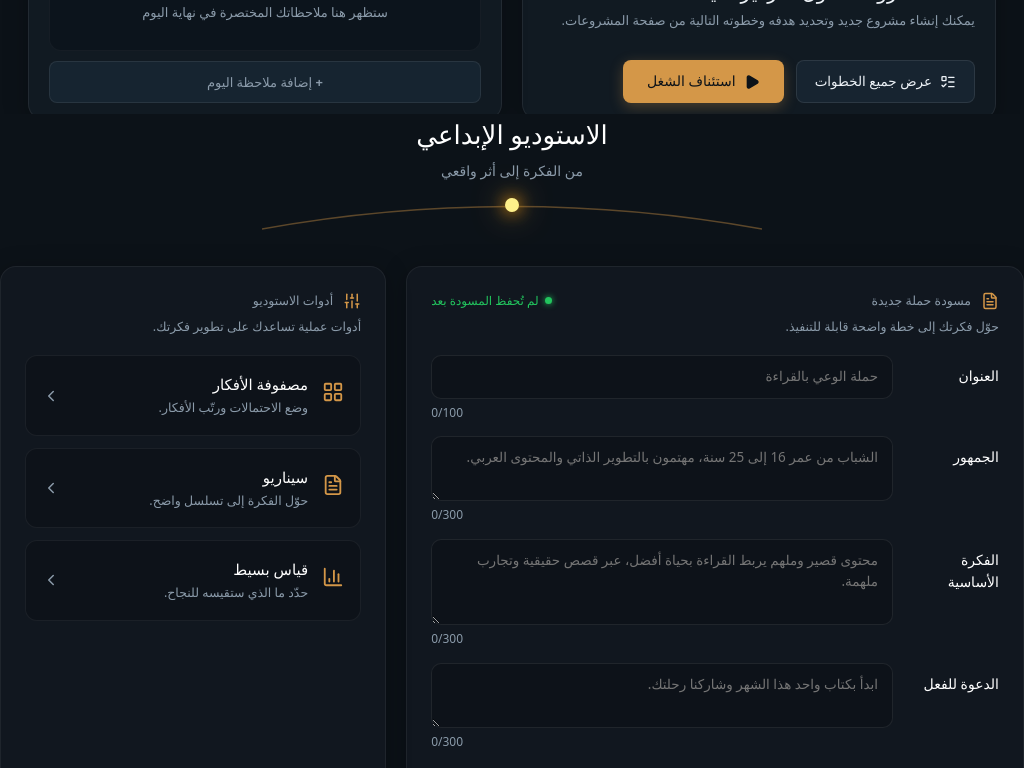
Test case: Audit Fixes Verification Suite › 1. Studio View Interactivity & Worksheets › opens Creative Matrix 2x2 grid, allows quadrant editing, and saves draft locally
Click the text "مصفوفة الأفكار".
click(260, 384)  # box [213,374,308,394]
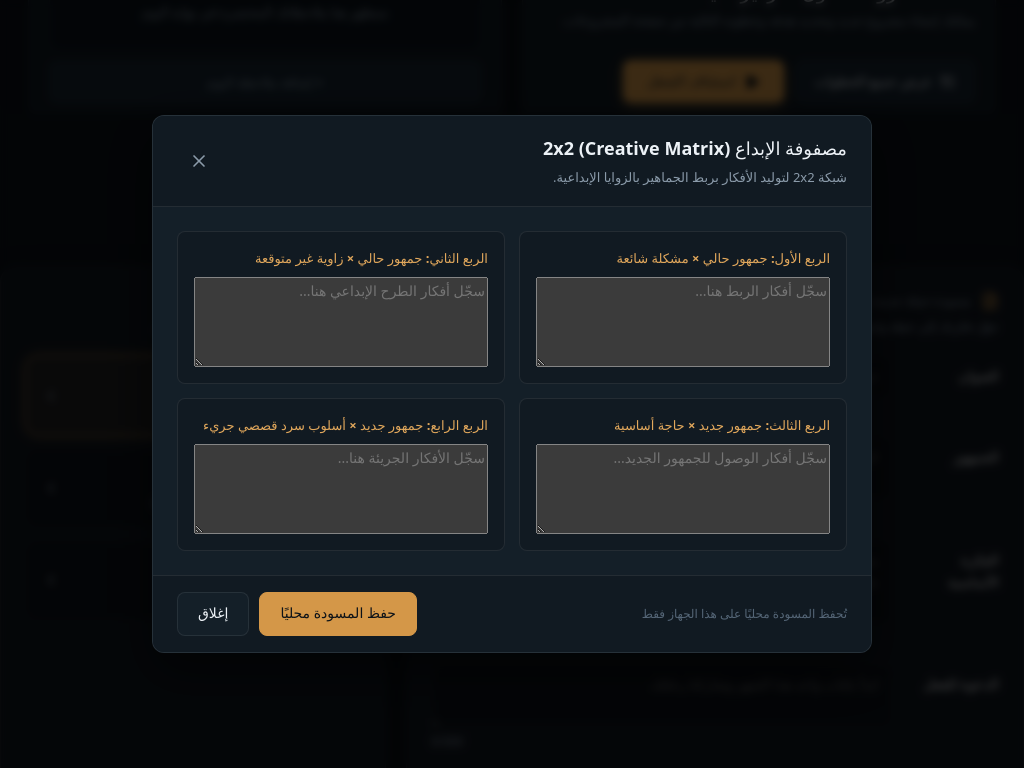
Expected: the heading "مصفوفة الإبداع 2x2 (Creative Matrix)" is shown, [543,134,847,163]
Expected: the heading "الربع الأول: جمهور حالي × مشكلة شائعة" is shown, [616,249,830,267]
Expected: the heading "الربع الرابع: جمهور جديد × أسلوب سرد قصصي جريء" is shown, [194,415,488,436]
Type "طرح زاوية جديدة للمهنيين" into the text box with placeholder "سجّل أفكار الربط هنا...".
click(683, 322); type("طرح زاوية جديدة للمهنيين")  # box [536,277,830,367]
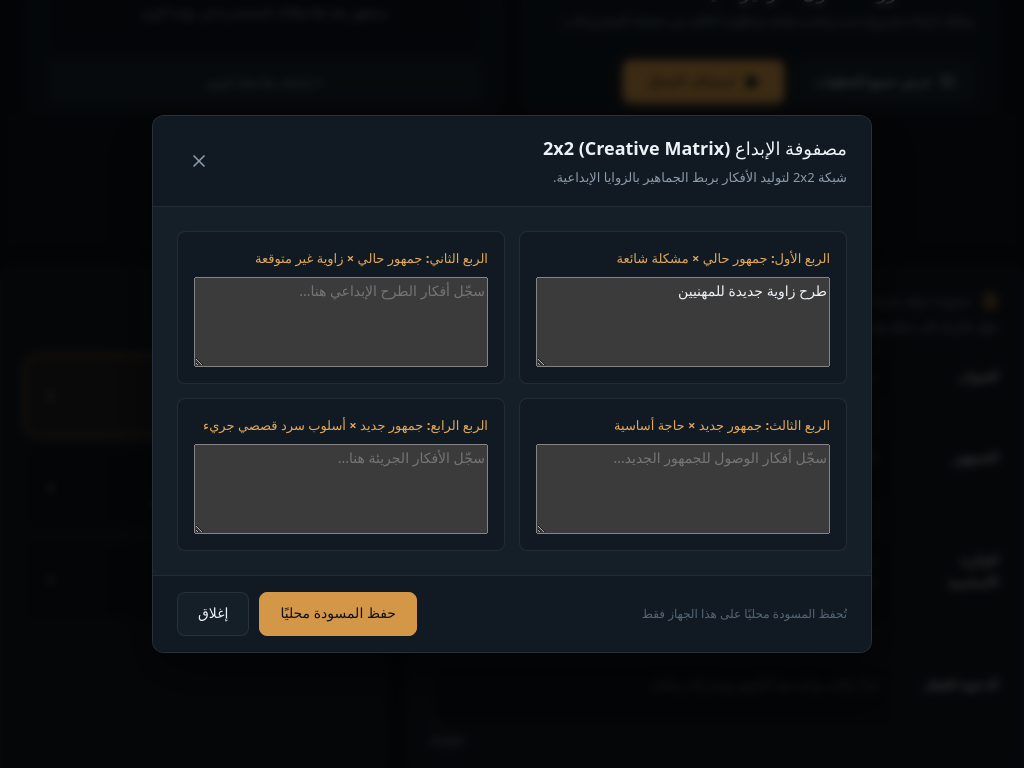
Click the button "حفظ المسودة محليًا".
click(338, 614)  # box [259,592,417,636]
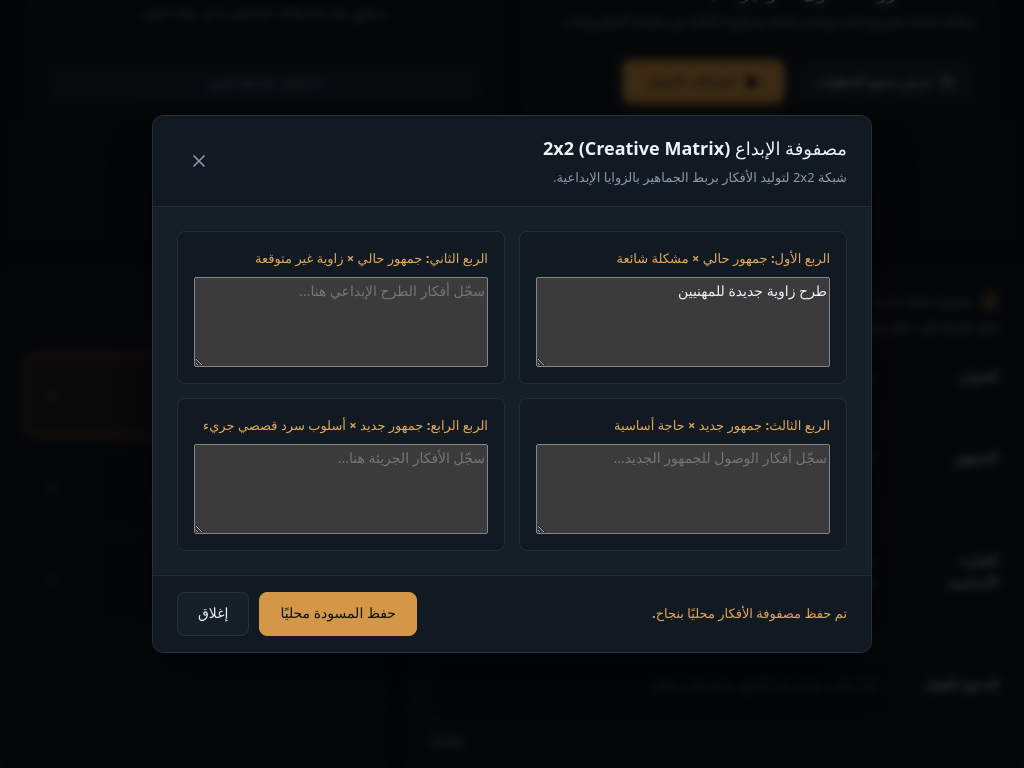
Expected: the text "تم حفظ مصفوفة الأفكار محليًا بنجاح." is shown, [652,604,847,622]
